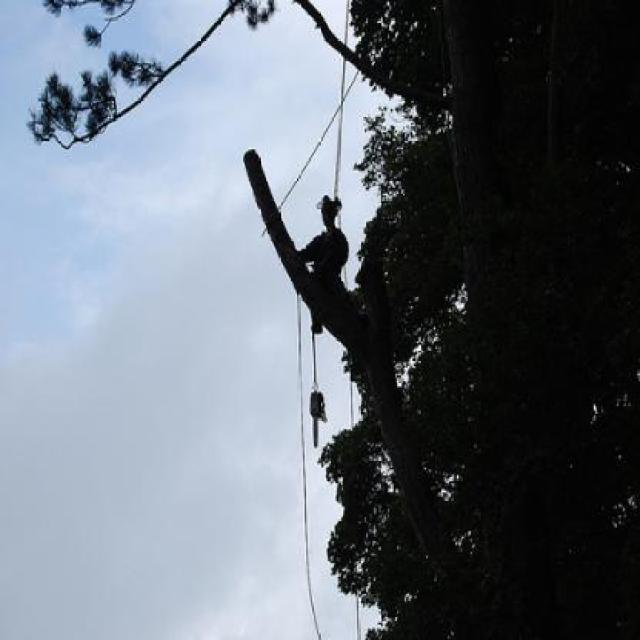Chainsaw: (308, 382, 329, 452)
